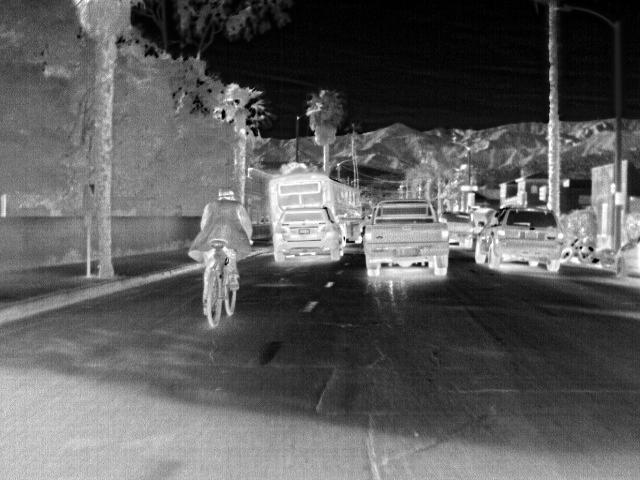car: (364, 200, 450, 276), (476, 205, 565, 276), (274, 207, 343, 261), (613, 236, 640, 282), (446, 211, 475, 247)
person: (202, 188, 254, 290)
